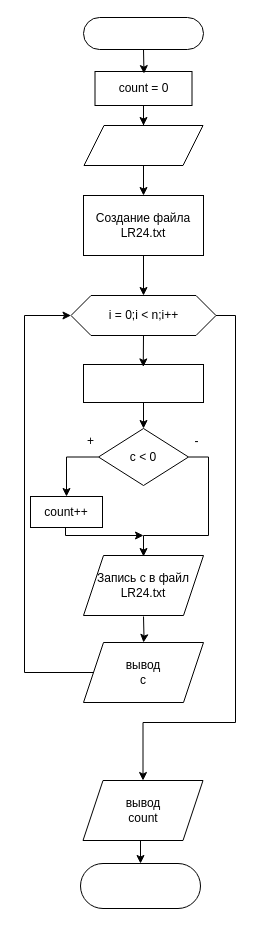
The diagram is 261 pixels wide and 926 high, and some of its shapes have lost their labels. Each missing label, with the box of its shape:
c = rand() % 21 - 10;: (82, 364, 204, 402)
ввод n: (83, 124, 203, 166)
конец: (80, 862, 200, 908)
начало: (82, 16, 204, 50)
